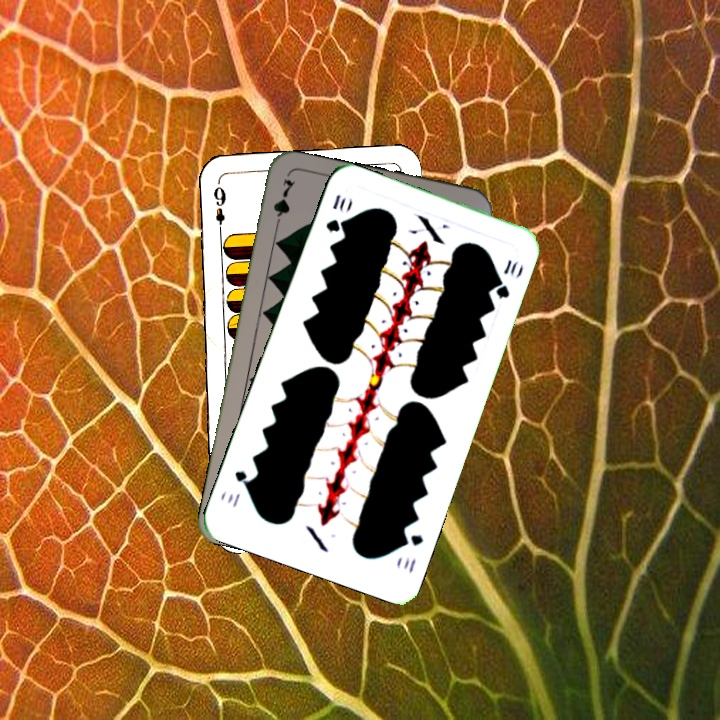E9: (209, 178, 228, 237)
G10: (397, 529, 426, 576), (322, 190, 348, 235)
G7: (269, 174, 297, 233)
